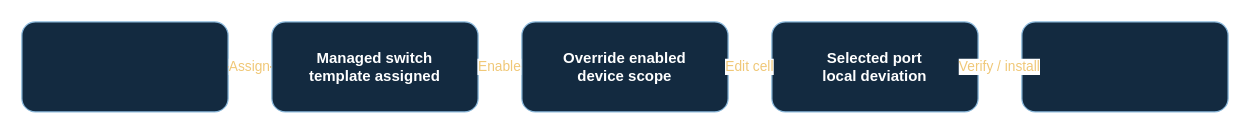
Some shapes in this 1250 by 134 pixel diagram are drawn without their labels. The shapes that lost their labels are listed below. From the top down, each one's centre as x and y in pixels, then its label:
the point at 124,66: Shared template port baseline
the point at 1124,66: Install preview target config
